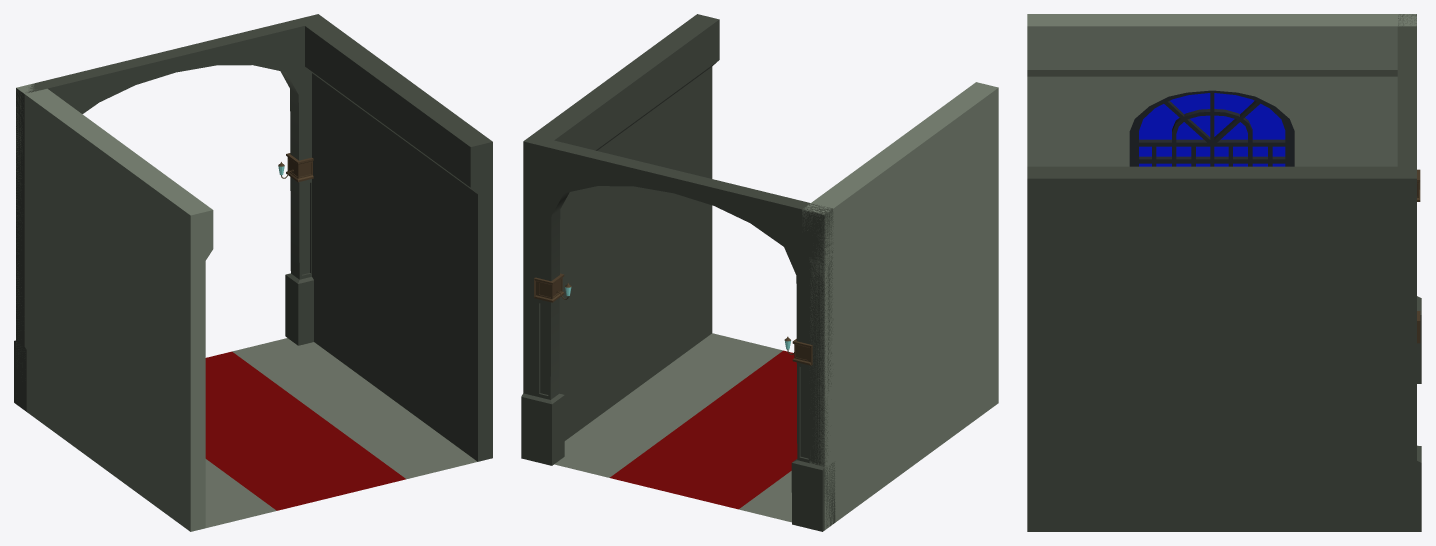
Rendered from Corridor_Wall.FBX.
3 renders of one model, left to right at view 1: azimuth 30°, elevation 25°; view 2: azimuth 150°, elevation 25°; view 3: azimuth 270°, elevation 25°, orthographic. The views are drawn at different scales.
Visible parts, largest first — view 1: WindowSide, DoorSide, Floor, Arch, LightHolderWall; view 2: WindowSide, DoorSide, Floor, Arch, LightHolderWall; view 3: DoorSide, WindowSide, Arch, Glass, Window.
Boxes of the visible parts, box(x1,y1,x2,y2) form: WindowSide: box(16, 83, 213, 531); DoorSide: box(296, 14, 492, 461); Floor: box(205, 338, 477, 527); Arch: box(14, 14, 325, 411); LightHolderWall: box(278, 153, 313, 182); WindowSide: box(802, 82, 998, 529); DoorSide: box(523, 14, 719, 440); Floor: box(554, 333, 797, 522); Arch: box(521, 135, 835, 531); LightHolderWall: box(534, 273, 812, 365); DoorSide: box(1027, 166, 1416, 531); WindowSide: box(1027, 14, 1416, 166); Arch: box(1393, 14, 1421, 531); Glass: box(1139, 93, 1285, 166); Window: box(1129, 90, 1294, 166).
Size of the model in its own units: 100 by 100 by 101.
